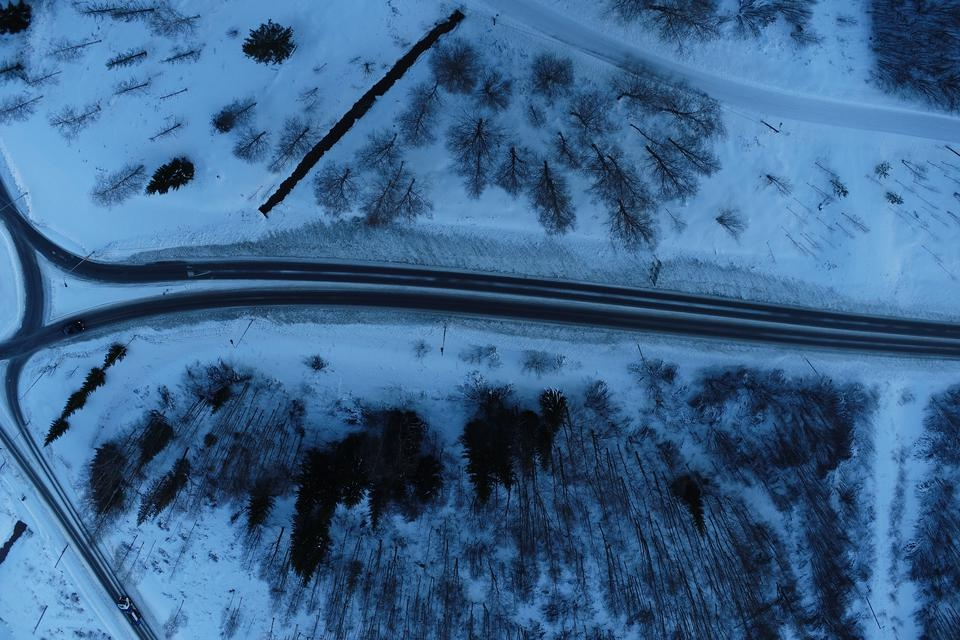roundabout: (0, 161, 72, 439)
